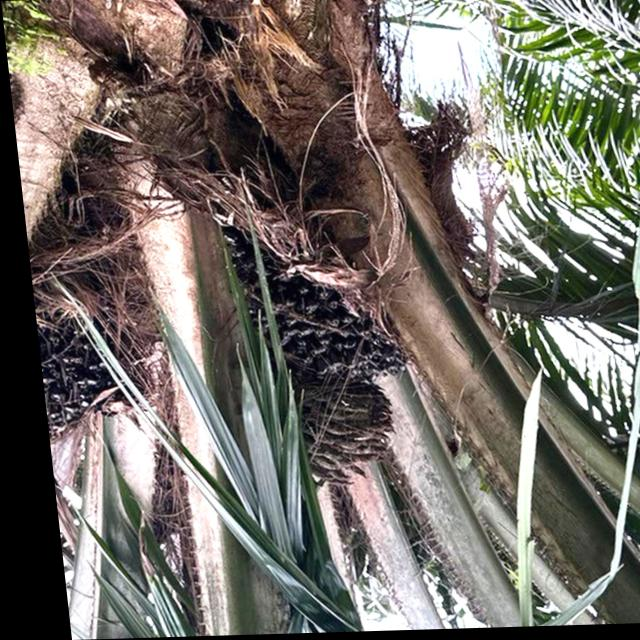unripe: (203, 201, 416, 402)
